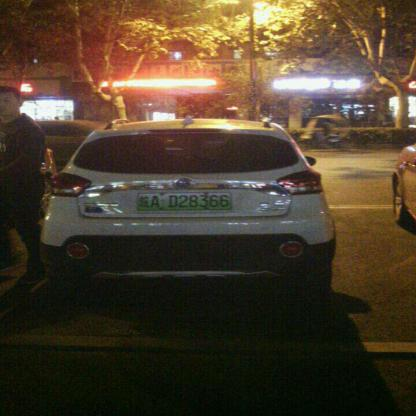lp: (136, 191, 232, 209)
